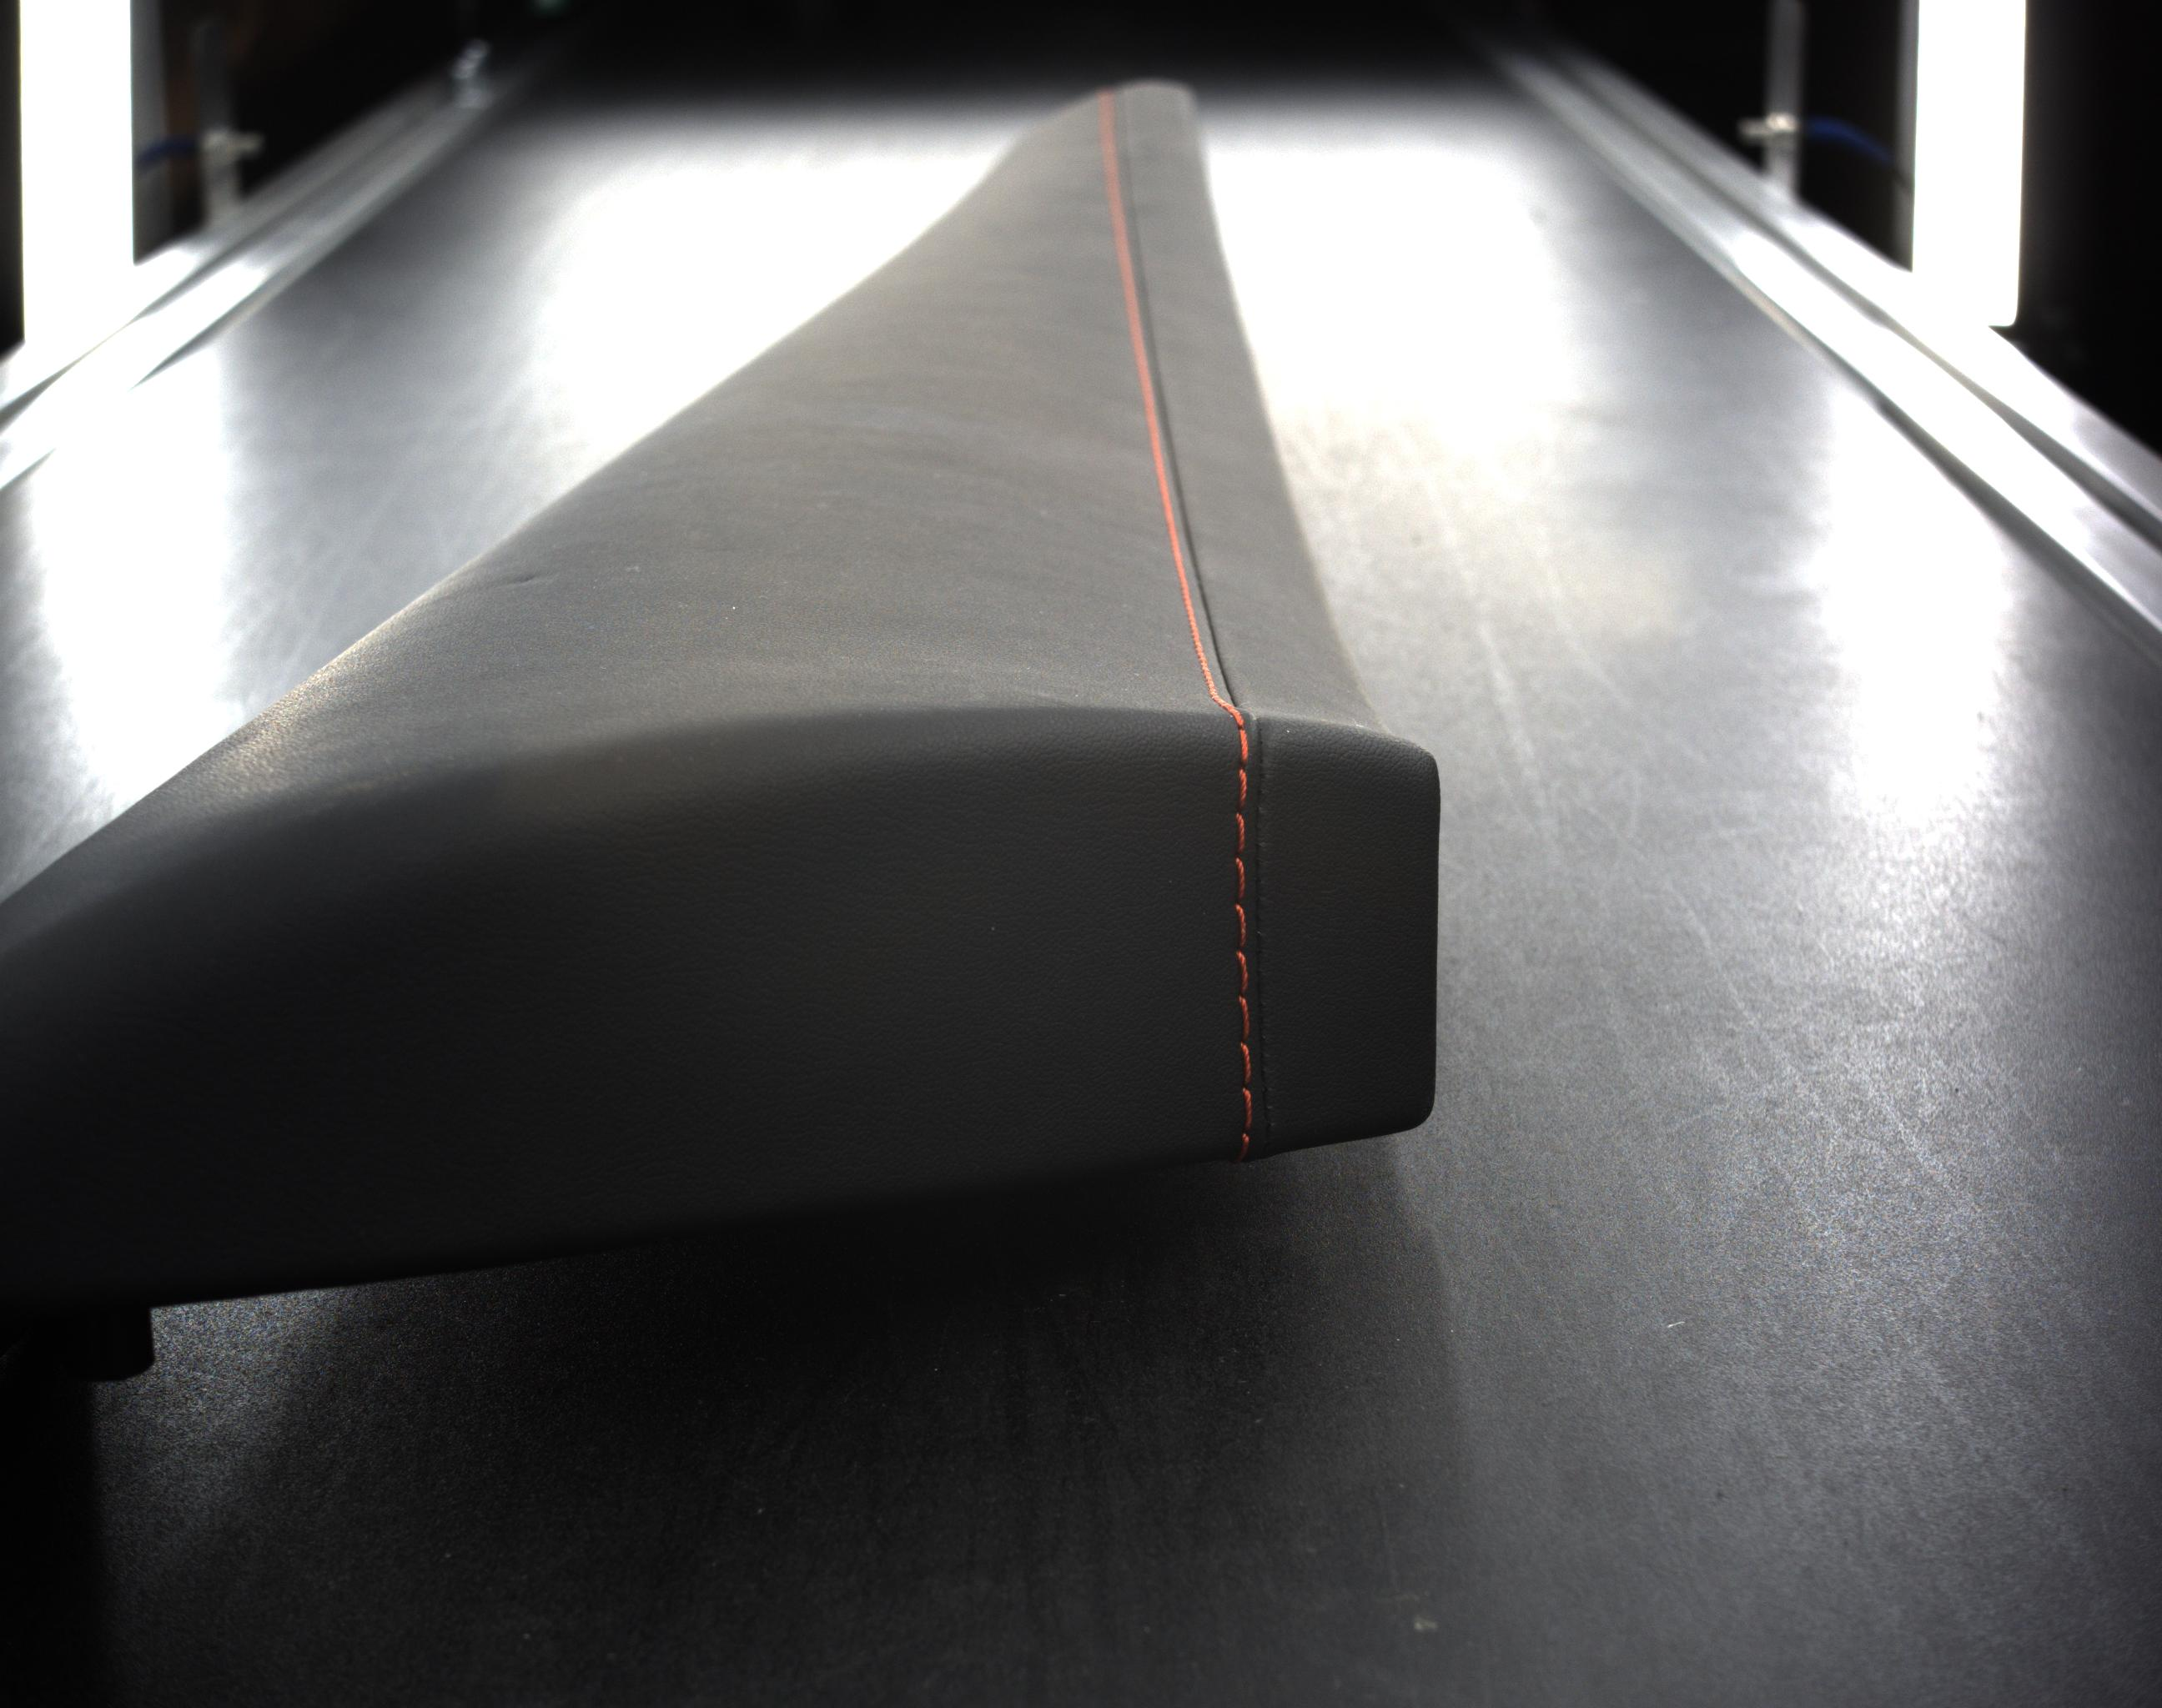vline: (1234, 904, 1248, 951), (1234, 857, 1248, 901), (1237, 997, 1251, 1039), (1237, 1044, 1253, 1081), (1235, 953, 1249, 994), (1235, 769, 1248, 807), (1234, 813, 1246, 851), (1241, 1088, 1253, 1127), (1237, 727, 1249, 764)
